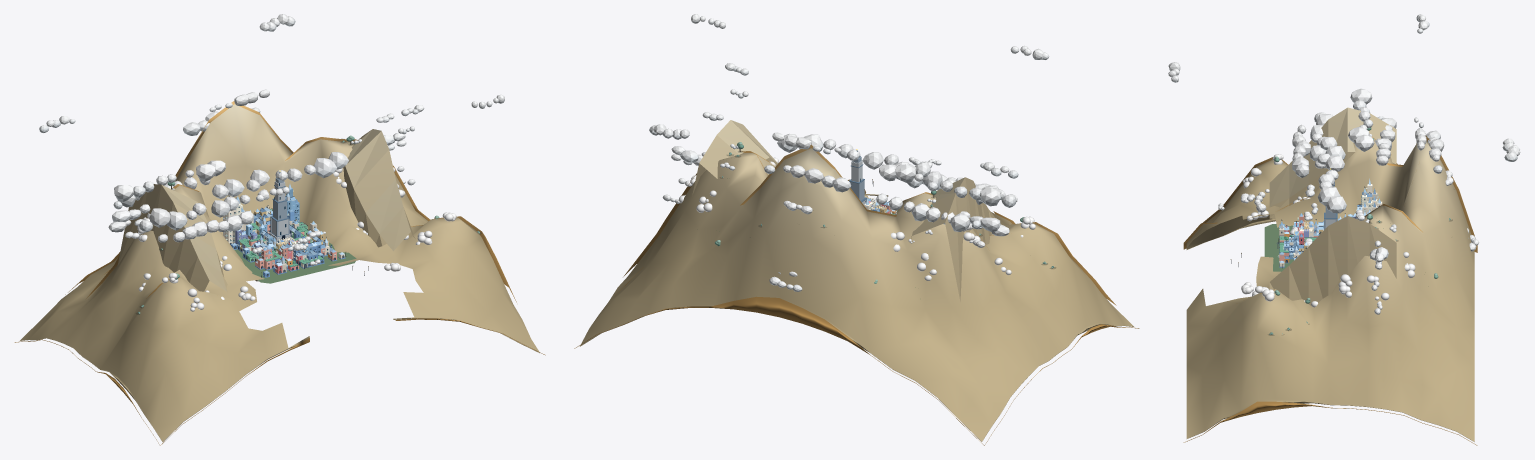
File: original.glb
The picture shows the model from 3 angles, left to right: view 1: azimuth 30°, elevation 25°; view 2: azimuth 150°, elevation 25°; view 3: azimuth 270°, elevation 25°; orthographic projection. The views are drawn at different scales.
Parts seen in each view (by area): view 1: citadel-oskar-grid-mountain-surface, highland-ravine-wall-east, highland-ravine-wall-west, backlit-highlight-citadel-oskar-grid-mountain-surface, highland-hero-cloud-blob-cap, highland-hero-cloud-blob-windward:3, highland-hero-cloud-blob-windward:0, highland-hero-cloud-blob-windward:2, highland-town-foundation-platform, town-terrace-0-level-1, town-terrace-0-level-2, town-terrace-0-level-3 (+1 smaller); view 2: citadel-oskar-grid-mountain-surface, backlit-highlight-citadel-oskar-grid-mountain-surface, highland-ravine-wall-west, highland-ravine-wall-east, highland-hero-cloud-blob-windward:0, highland-hero-cloud-blob-cap, highland-hero-cloud-blob-windward:1, highland-hero-cloud-blob-ridge:0:3, highland-hero-cloud-blob-windward:3; view 3: citadel-oskar-grid-mountain-surface, highland-ravine-wall-east, highland-ravine-wall-west, backlit-highlight-citadel-oskar-grid-mountain-surface, highland-hero-cloud-blob-cap, highland-hero-cloud-blob-windward:0, highland-hero-cloud-blob-windward:2, highland-town-foundation-platform, highland-hero-cloud-blob-windward:1, highland-hero-cloud-blob-windward:3, highland-hero-cloud-blob-ridge:0:3, town-terrace-0-level-3 (+3 smaller).
Part boxes in pixels (bbox=[...]): citadel-oskar-grid-mountain-surface: bbox=[20, 104, 539, 441]; highland-ravine-wall-east: bbox=[343, 129, 415, 251]; highland-ravine-wall-west: bbox=[117, 184, 227, 291]; backlit-highlight-citadel-oskar-grid-mountain-surface: bbox=[14, 101, 545, 445]; highland-hero-cloud-blob-cap: bbox=[212, 152, 348, 198]; highland-hero-cloud-blob-windward:3: bbox=[139, 194, 250, 232]; highland-hero-cloud-blob-windward:0: bbox=[114, 160, 225, 201]; highland-hero-cloud-blob-windward:2: bbox=[158, 211, 253, 242]; highland-town-foundation-platform: bbox=[234, 222, 356, 283]; town-terrace-0-level-1: bbox=[223, 220, 336, 270]; town-terrace-0-level-2: bbox=[226, 216, 324, 259]; town-terrace-0-level-3: bbox=[226, 208, 324, 255]; citadel-oskar-grid-mountain-surface: bbox=[579, 148, 1133, 441]; backlit-highlight-citadel-oskar-grid-mountain-surface: bbox=[574, 144, 1139, 445]; highland-ravine-wall-west: bbox=[911, 177, 994, 301]; highland-ravine-wall-east: bbox=[692, 120, 777, 194]; highland-hero-cloud-blob-windward:0: bbox=[879, 164, 1001, 206]; highland-hero-cloud-blob-cap: bbox=[777, 133, 930, 180]; highland-hero-cloud-blob-windward:1: bbox=[876, 193, 980, 231]; highland-hero-cloud-blob-ridge:0:3: bbox=[764, 165, 851, 192]; highland-hero-cloud-blob-windward:3: bbox=[907, 171, 1016, 207]; citadel-oskar-grid-mountain-surface: bbox=[1186, 141, 1474, 441]; highland-ravine-wall-east: bbox=[1269, 216, 1396, 306]; highland-ravine-wall-west: bbox=[1269, 107, 1396, 218]; backlit-highlight-citadel-oskar-grid-mountain-surface: bbox=[1183, 135, 1477, 445]; highland-hero-cloud-blob-cap: bbox=[1317, 137, 1346, 213]; highland-hero-cloud-blob-windward:0: bbox=[1348, 88, 1374, 151]; highland-hero-cloud-blob-windward:2: bbox=[1292, 124, 1311, 177]; highland-town-foundation-platform: bbox=[1264, 224, 1293, 271]; highland-hero-cloud-blob-windward:1: bbox=[1374, 116, 1396, 165]; highland-hero-cloud-blob-windward:3: bbox=[1309, 112, 1333, 168]; highland-hero-cloud-blob-ridge:0:3: bbox=[1426, 130, 1444, 173]; town-terrace-0-level-3: bbox=[1292, 213, 1356, 250].
Bounding box in the file's own units: 185 × 113 × 144.
Materials: 116 (79 with a texture image).
